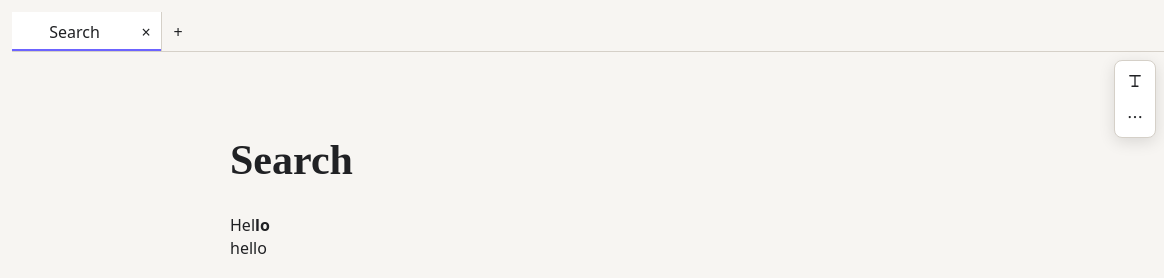
spec 0004 in-document search › AC49 AC51–AC64 AC66–AC68: Find matches across marks, navigates, rescans, closes, and never changes document content
Type keys "{Control>}f{/Control}"
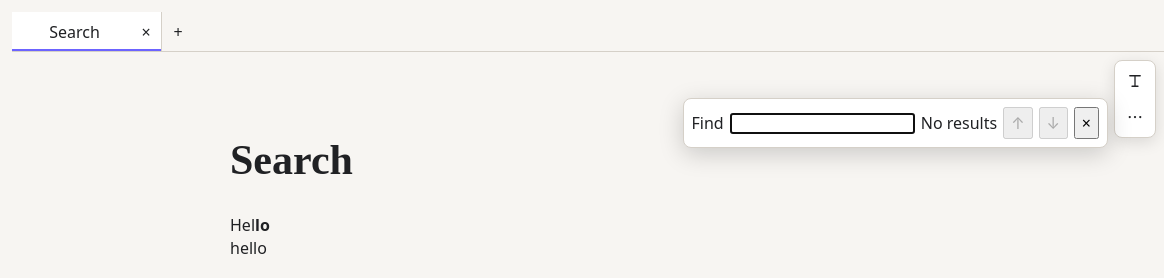
Type "HELLO" into the search field with test id "search-input" at (822, 123), box [730,112,915,134]
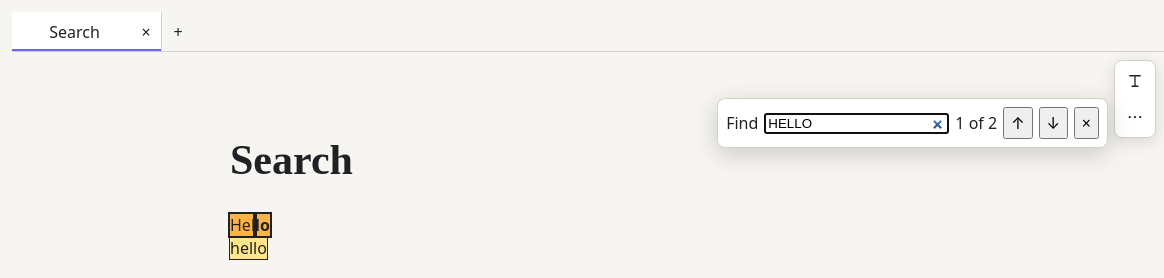
Expected: the text with test id "search-status" reads "1 of 2", [955,112,997,134]
Press Enter
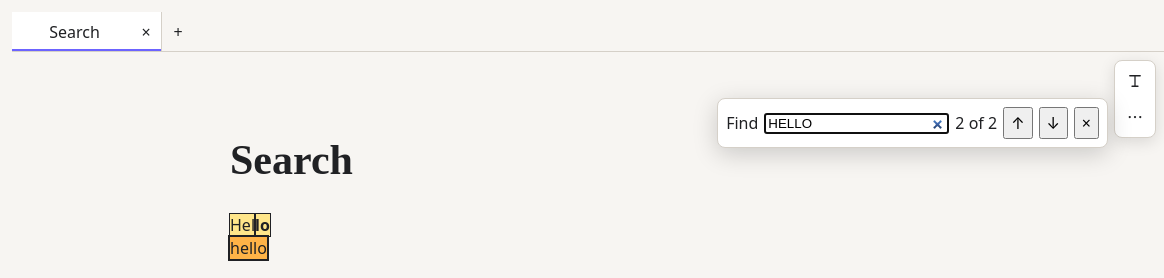
Expected: the text with test id "search-status" reads "2 of 2", [955,112,997,134]
Type keys "{Control>}f{/Control}"
Press Escape
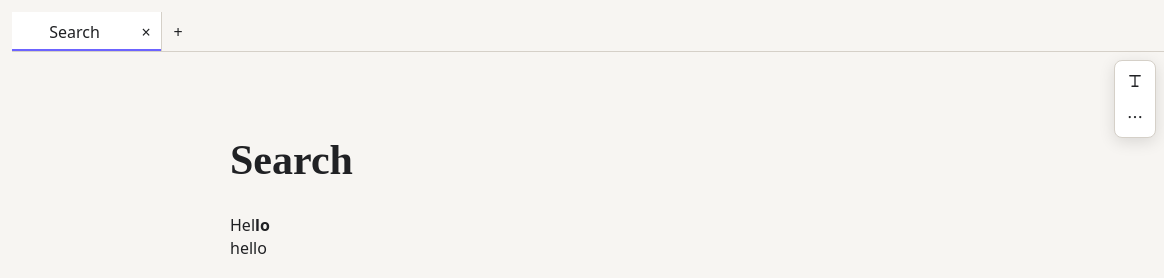
Expected: the element with test id "search-panel" is gone
